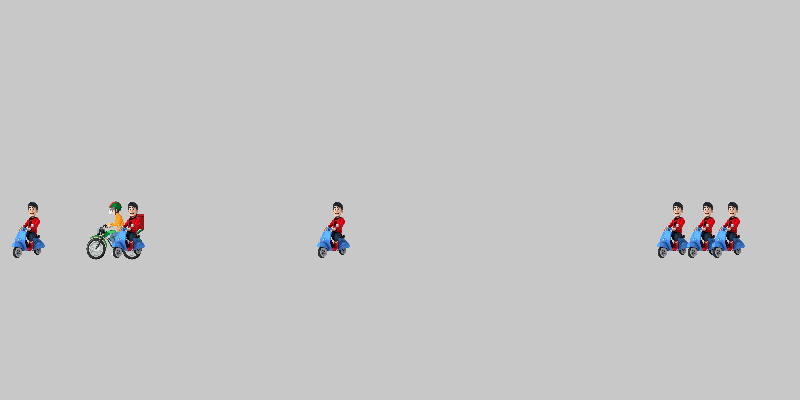helmet: (85, 200, 145, 260)
no_helmet: (0, 200, 60, 260), (100, 200, 160, 260), (305, 200, 365, 260), (645, 200, 705, 260), (675, 200, 735, 260), (700, 200, 760, 260)
